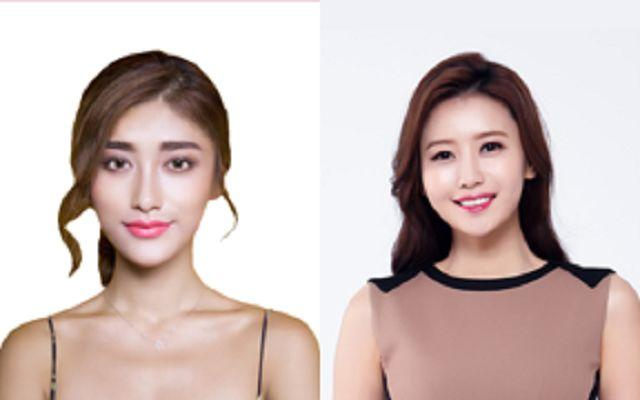no_mask: (87, 94, 216, 265), (420, 92, 532, 237)
